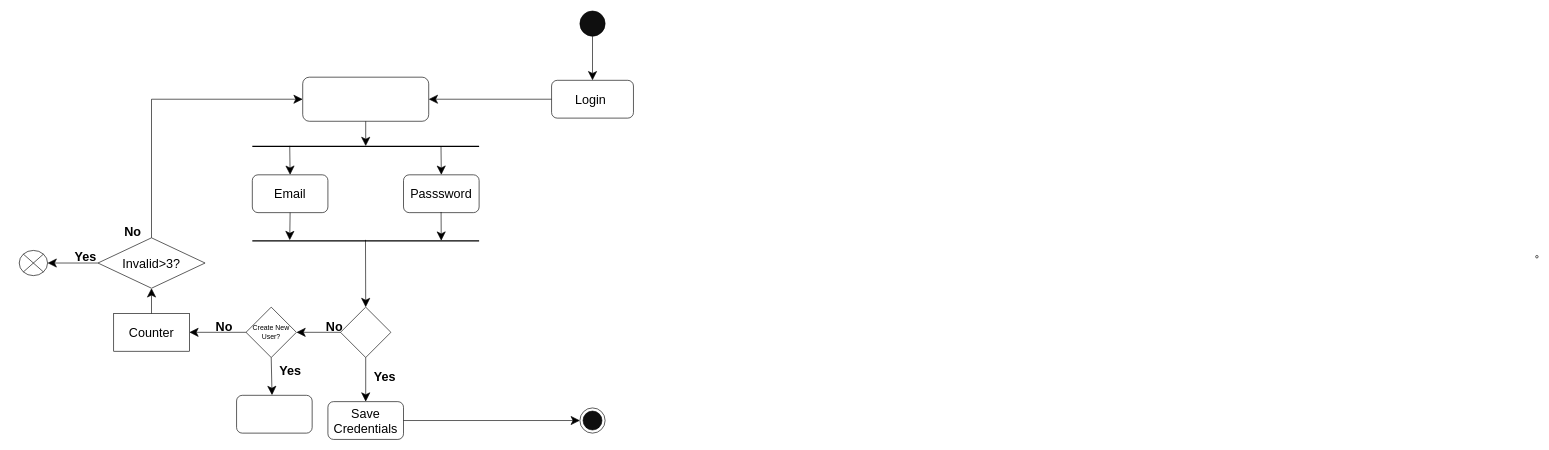
This 1549x450 diagram has some shape labels left out. The centre of each missing label's shape, as x and y in pixels:
Fill Login deatails: point 365,99
Registration Page: point 274,414
Valid?: point 365,332
